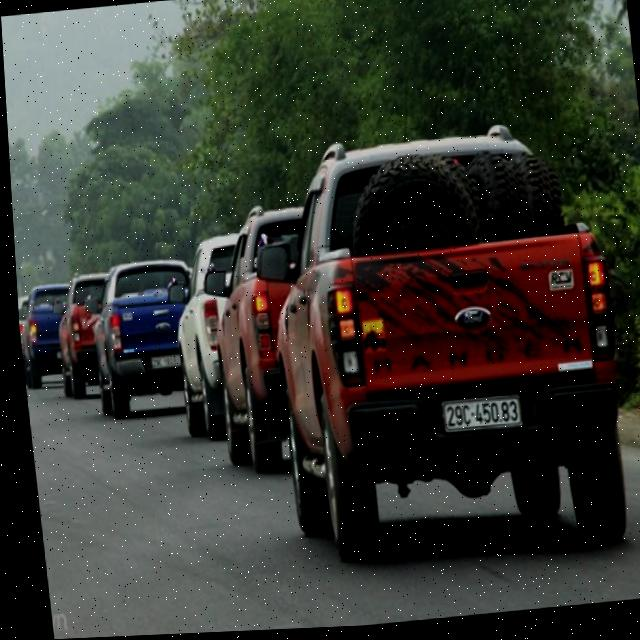car: (246, 104, 640, 581), (76, 252, 209, 425), (23, 268, 121, 398)
plate: (435, 388, 530, 440)
